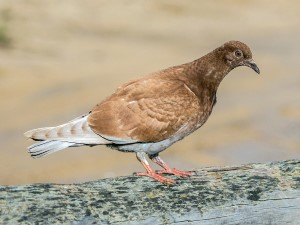pigeon: (22, 39, 262, 186)
